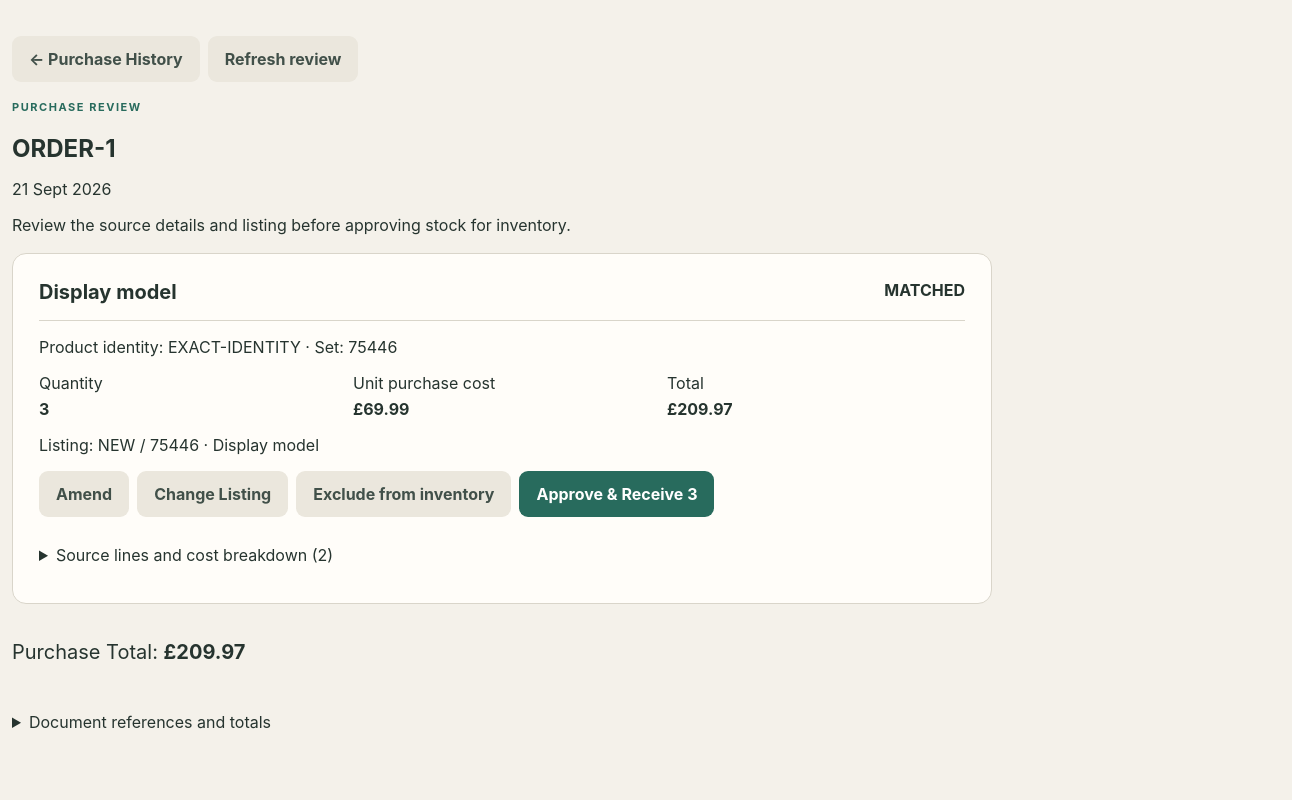
Test case: does not change inventory disposition when the backend rejects exclusion
Step 1. Click the button "Exclude from inventory" → click(404, 494), box 296,471 -> 511,517
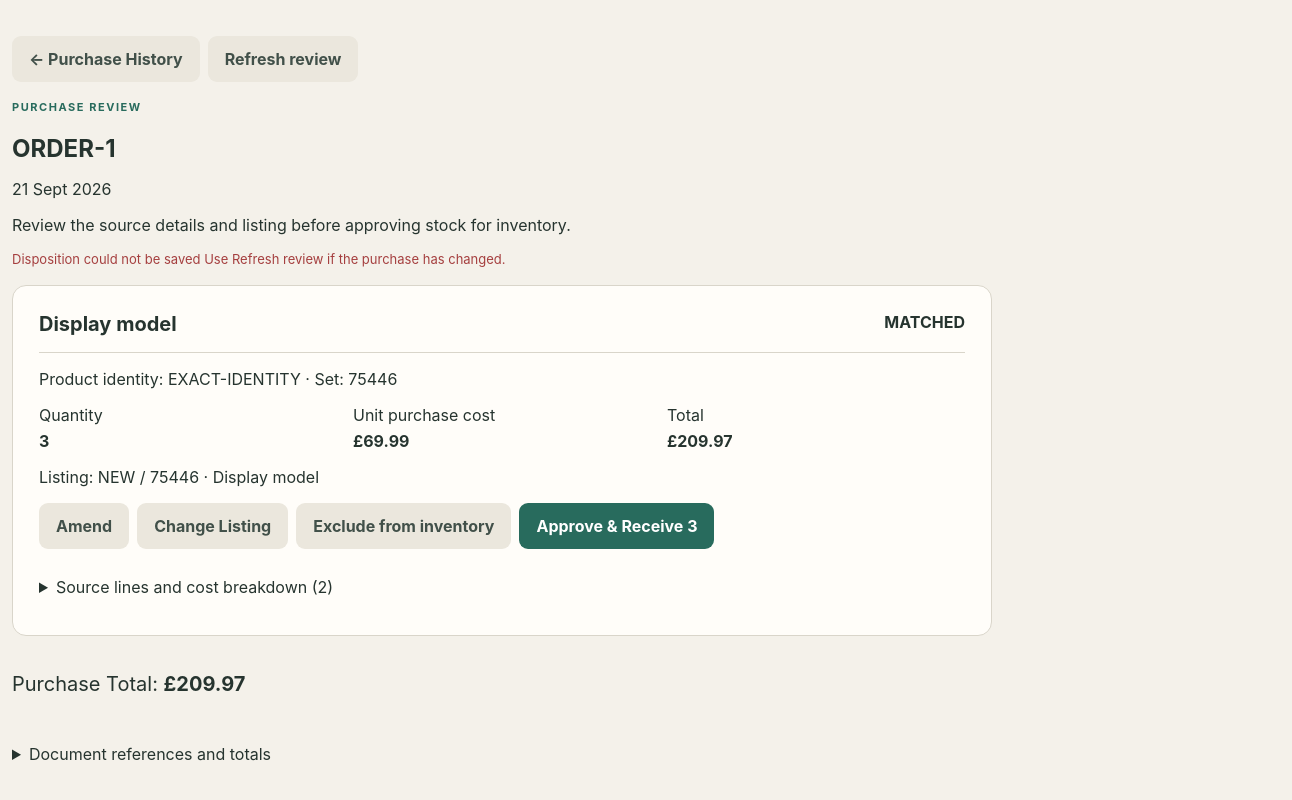
Check: the text "MATCHED" is shown, box 884,312 -> 965,336
Check: the message shows "Disposition could not be saved", box 12,251 -> 200,267
